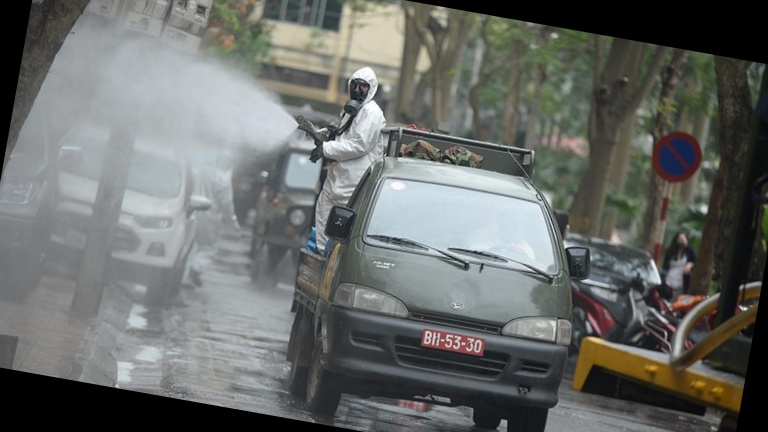plate: (417, 325, 487, 363)
